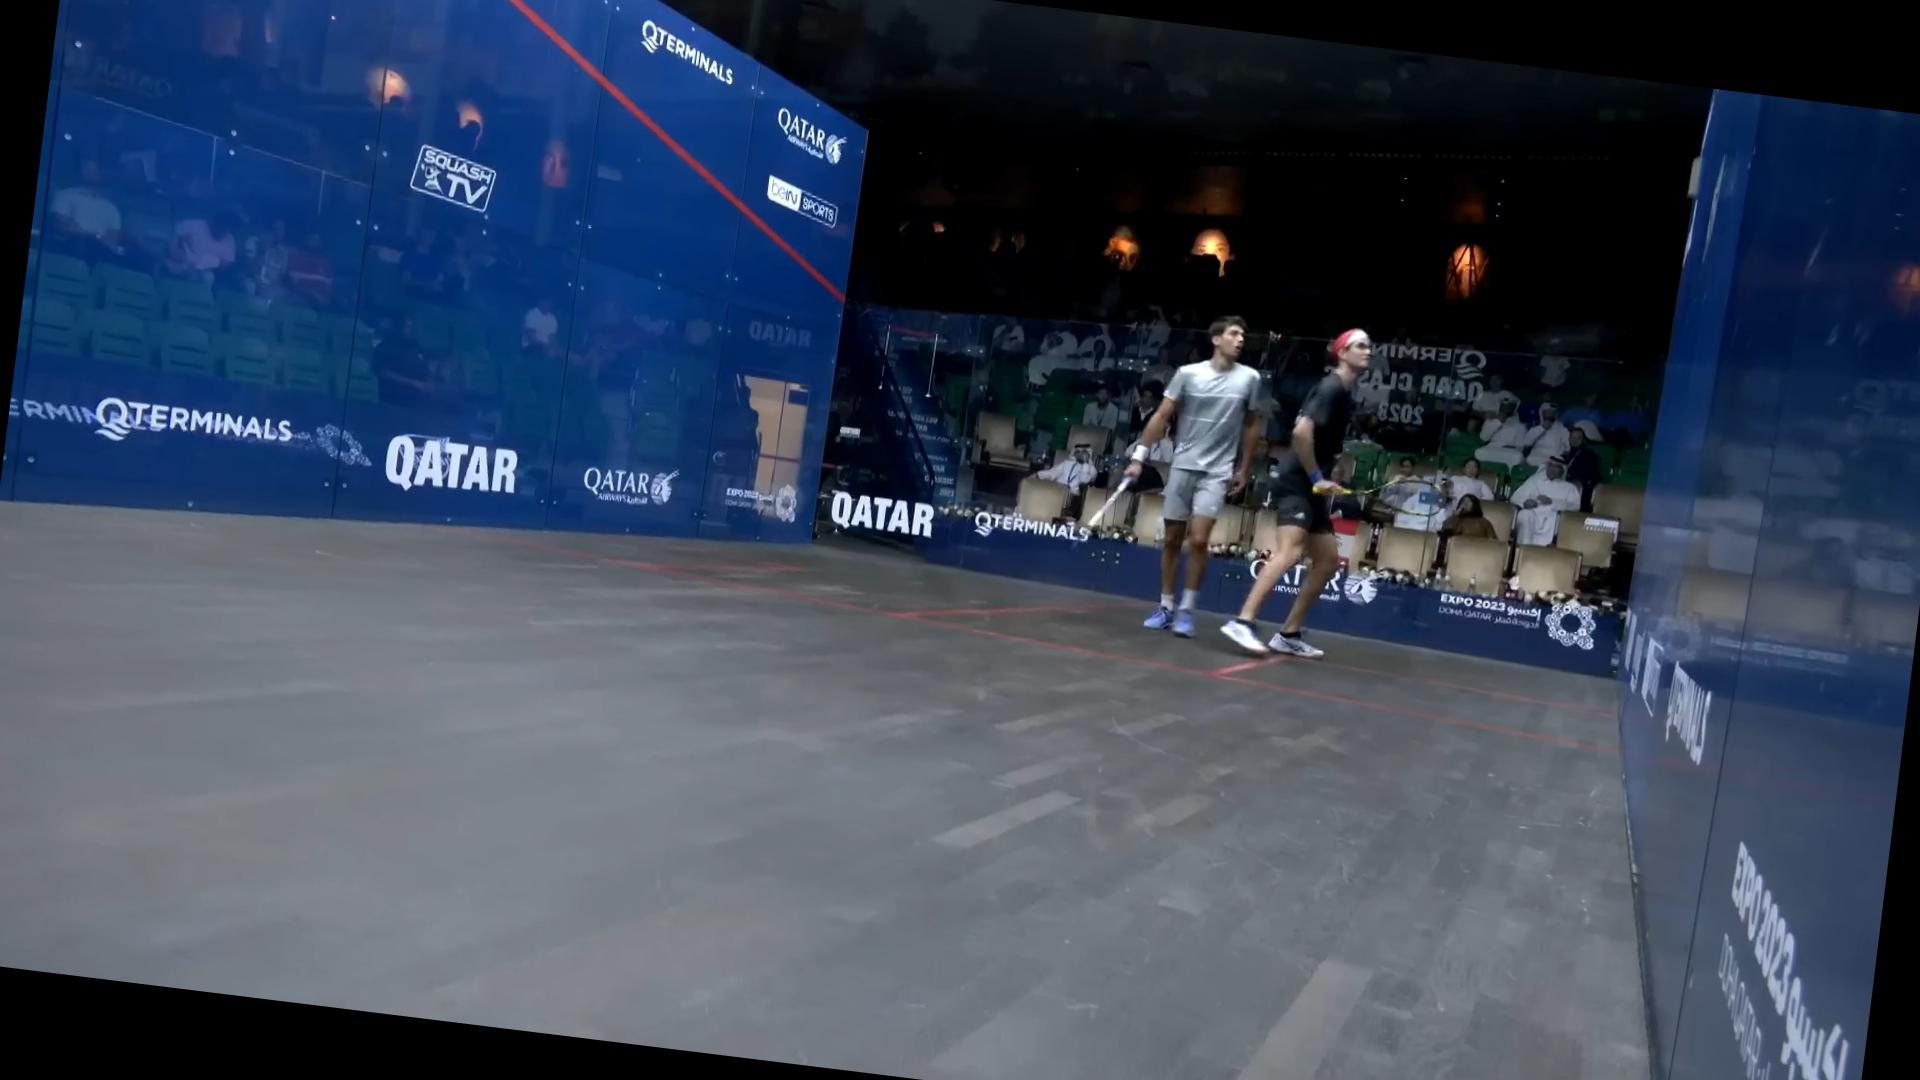Racket: (1336, 459, 1457, 537)
